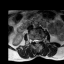CCS_normal: (36, 37, 38, 46)
LFS_normal: (40, 37, 42, 43)
LLS_normal: (38, 37, 40, 44)
RFS_normal: (32, 37, 34, 43)
RLS_normal: (34, 37, 36, 44)
